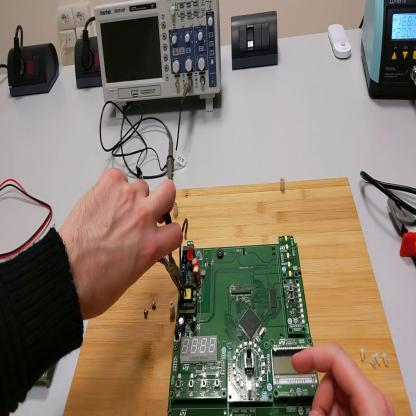hand: (63, 166, 184, 321), (293, 343, 393, 415)
low voltage board: (168, 219, 320, 415)
oscilloscope: (95, 4, 223, 127)
oscilloscope probe tip: (166, 135, 175, 179)
pliers: (158, 213, 187, 297), (390, 194, 416, 263)
socket: (6, 42, 60, 97), (76, 37, 102, 88)
working area: (64, 154, 415, 416)
